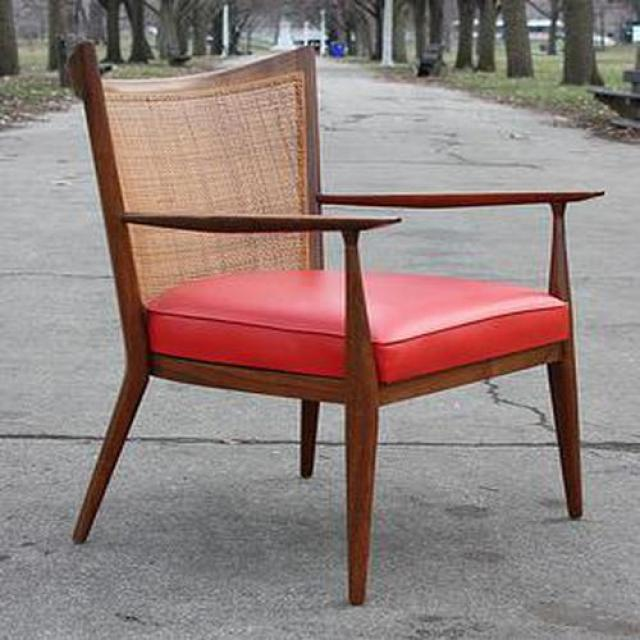chair: (68, 42, 602, 609)
